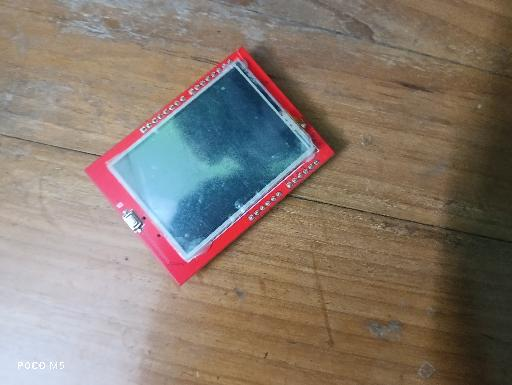Display: (83, 44, 335, 288)
